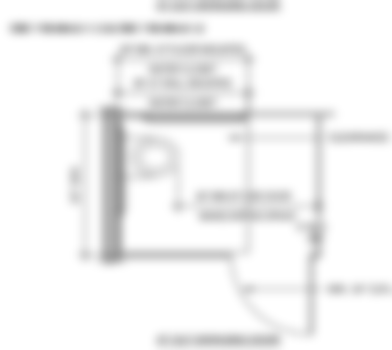door: (229, 254, 319, 339)
